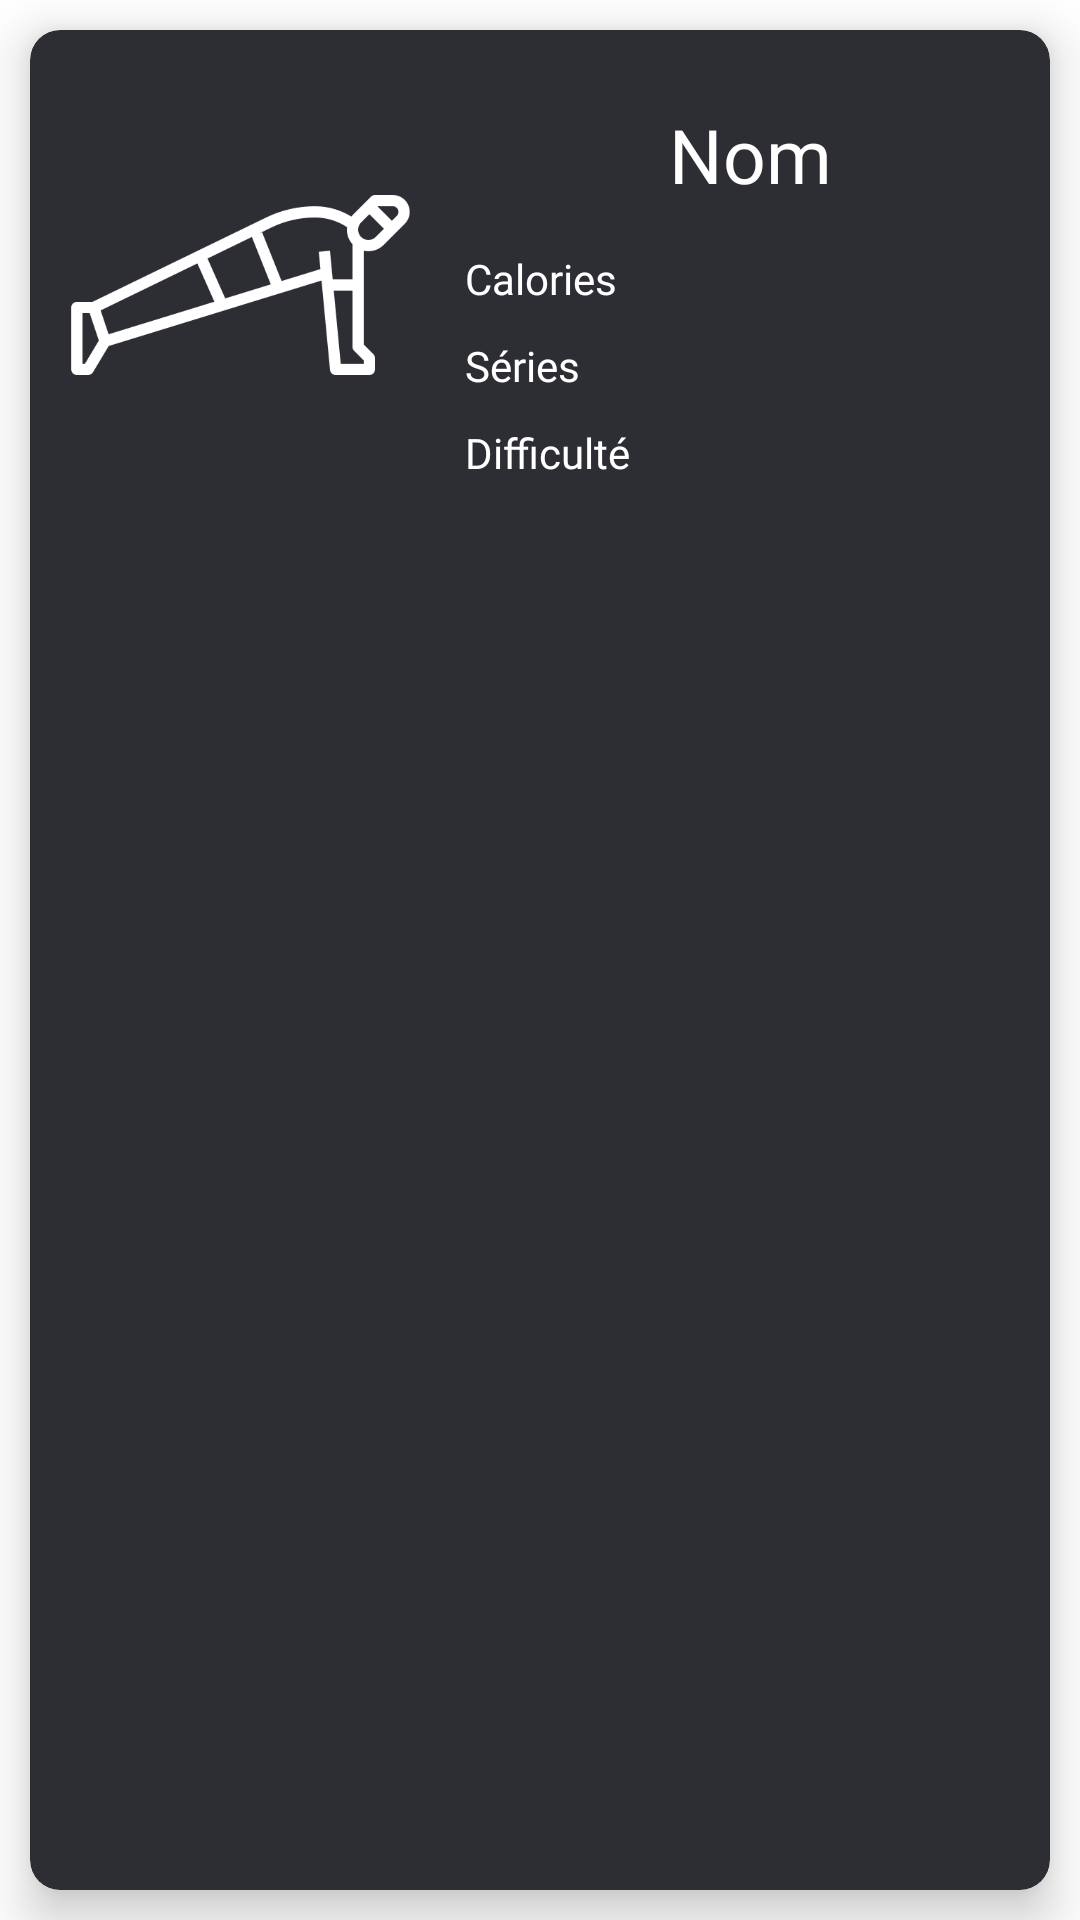

Where to tap for icons on this 1080×1920 app screen, as (x,y):
pushup: (240,285)
